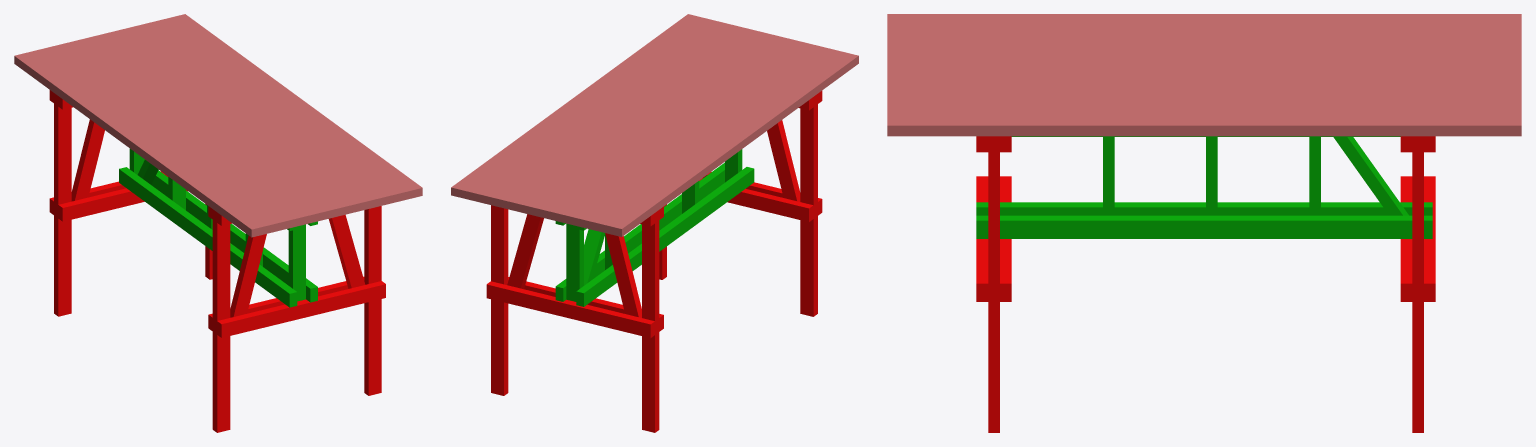
The model's file is result.glb.
3 views of the same model, side by side, from view 1: azimuth 30°, elevation 25°; view 2: azimuth 150°, elevation 25°; view 3: azimuth 270°, elevation 25° (orthographic). The views are drawn at different scales.
Parts seen in each view (by area): view 1: 0e2d6115-064c-49e9-8b46-75e6a443c788__Box, 5716ffc9-2244-4219-91a1-84971ffeeac2__sideV, fc0ff7b9-c589-4967-a167-0a1902f2a6fa__undefined, e9dbe41b-021e-4e5b-898d-485fd11d3400__undefined, 72f7e43e-d722-4439-b84b-b73fdcee22d6__undefined, 8e845e1e-fc01-4466-8a0b-829a7102497a__undefined, 05907608-a889-45c1-a5c1-0b994ade372c__undefined, 208a3bea-dc0c-40cc-aa88-c3824332a9ea__undefined, 220238b3-7981-4554-9ca0-bead12a8dde4__undefined, 39999f73-7ea3-4115-af88-85307f5ef5f1__undefined, 1d18f5ac-4958-489f-a69c-e43293ade638__undefined, 75c02e4d-f520-4bfe-b11a-c2f6e51ee647__undefined (+15 smaller); view 2: 0e2d6115-064c-49e9-8b46-75e6a443c788__Box, fc0ff7b9-c589-4967-a167-0a1902f2a6fa__undefined, 5716ffc9-2244-4219-91a1-84971ffeeac2__sideV, 39999f73-7ea3-4115-af88-85307f5ef5f1__undefined, 05907608-a889-45c1-a5c1-0b994ade372c__undefined, 1d18f5ac-4958-489f-a69c-e43293ade638__undefined, 220238b3-7981-4554-9ca0-bead12a8dde4__undefined, 8eeadd95-a23d-4f24-b320-4b582d40163c__undefined, abcacfcd-9628-4e4d-b824-7d19eeb62a82__undefined, 75c02e4d-f520-4bfe-b11a-c2f6e51ee647__undefined, cd08b841-8998-4378-a686-66e47fae4654__undefined, 8e845e1e-fc01-4466-8a0b-829a7102497a__undefined (+17 smaller); view 3: 220238b3-7981-4554-9ca0-bead12a8dde4__undefined, 3dd16536-4997-455d-8f23-9477ec98125d__strutH, 8e845e1e-fc01-4466-8a0b-829a7102497a__undefined, abcacfcd-9628-4e4d-b824-7d19eeb62a82__undefined, 72f7e43e-d722-4439-b84b-b73fdcee22d6__undefined, 0e2d6115-064c-49e9-8b46-75e6a443c788__Box, cd08b841-8998-4378-a686-66e47fae4654__undefined, 39999f73-7ea3-4115-af88-85307f5ef5f1__undefined, e9dbe41b-021e-4e5b-898d-485fd11d3400__undefined, 05907608-a889-45c1-a5c1-0b994ade372c__undefined, 208a3bea-dc0c-40cc-aa88-c3824332a9ea__undefined, 8eeadd95-a23d-4f24-b320-4b582d40163c__undefined (+13 smaller).
Boxes of the visible parts, x1=… form: 0e2d6115-064c-49e9-8b46-75e6a443c788__Box: x1=14, y1=52, x2=264, y2=237; 5716ffc9-2244-4219-91a1-84971ffeeac2__sideV: x1=212, y1=209, x2=230, y2=432; fc0ff7b9-c589-4967-a167-0a1902f2a6fa__undefined: x1=54, y1=93, x2=71, y2=316; e9dbe41b-021e-4e5b-898d-485fd11d3400__undefined: x1=67, y1=39, x2=317, y2=224; 72f7e43e-d722-4439-b84b-b73fdcee22d6__undefined: x1=146, y1=20, x2=396, y2=205; 8e845e1e-fc01-4466-8a0b-829a7102497a__undefined: x1=54, y1=43, x2=304, y2=227; 05907608-a889-45c1-a5c1-0b994ade372c__undefined: x1=80, y1=36, x2=330, y2=221; 208a3bea-dc0c-40cc-aa88-c3824332a9ea__undefined: x1=93, y1=33, x2=343, y2=217; 220238b3-7981-4554-9ca0-bead12a8dde4__undefined: x1=172, y1=14, x2=422, y2=198; 39999f73-7ea3-4115-af88-85307f5ef5f1__undefined: x1=41, y1=46, x2=291, y2=230; 1d18f5ac-4958-489f-a69c-e43293ade638__undefined: x1=133, y1=23, x2=383, y2=208; 75c02e4d-f520-4bfe-b11a-c2f6e51ee647__undefined: x1=159, y1=17, x2=409, y2=201; 0e2d6115-064c-49e9-8b46-75e6a443c788__Box: x1=608, y1=52, x2=858, y2=236; fc0ff7b9-c589-4967-a167-0a1902f2a6fa__undefined: x1=642, y1=210, x2=659, y2=432; 5716ffc9-2244-4219-91a1-84971ffeeac2__sideV: x1=800, y1=94, x2=817, y2=316; 39999f73-7ea3-4115-af88-85307f5ef5f1__undefined: x1=582, y1=46, x2=832, y2=230; 05907608-a889-45c1-a5c1-0b994ade372c__undefined: x1=543, y1=36, x2=792, y2=220; 1d18f5ac-4958-489f-a69c-e43293ade638__undefined: x1=490, y1=23, x2=740, y2=207; 220238b3-7981-4554-9ca0-bead12a8dde4__undefined: x1=451, y1=14, x2=700, y2=198; 8eeadd95-a23d-4f24-b320-4b582d40163c__undefined: x1=516, y1=30, x2=766, y2=214; abcacfcd-9628-4e4d-b824-7d19eeb62a82__undefined: x1=503, y1=27, x2=753, y2=211; 75c02e4d-f520-4bfe-b11a-c2f6e51ee647__undefined: x1=464, y1=17, x2=713, y2=201; cd08b841-8998-4378-a686-66e47fae4654__undefined: x1=595, y1=49, x2=845, y2=233; 8e845e1e-fc01-4466-8a0b-829a7102497a__undefined: x1=569, y1=43, x2=818, y2=227; 220238b3-7981-4554-9ca0-bead12a8dde4__undefined: x1=887, y1=117, x2=1521, y2=136; 3dd16536-4997-455d-8f23-9477ec98125d__strutH: x1=976, y1=215, x2=1432, y2=238; 8e845e1e-fc01-4466-8a0b-829a7102497a__undefined: x1=887, y1=39, x2=1521, y2=48; abcacfcd-9628-4e4d-b824-7d19eeb62a82__undefined: x1=887, y1=82, x2=1521, y2=91; 72f7e43e-d722-4439-b84b-b73fdcee22d6__undefined: x1=887, y1=99, x2=1521, y2=108; 0e2d6115-064c-49e9-8b46-75e6a443c788__Box: x1=887, y1=14, x2=1521, y2=22; cd08b841-8998-4378-a686-66e47fae4654__undefined: x1=887, y1=22, x2=1521, y2=30; 39999f73-7ea3-4115-af88-85307f5ef5f1__undefined: x1=887, y1=31, x2=1521, y2=39; e9dbe41b-021e-4e5b-898d-485fd11d3400__undefined: x1=887, y1=48, x2=1521, y2=56; 05907608-a889-45c1-a5c1-0b994ade372c__undefined: x1=887, y1=57, x2=1521, y2=65; 208a3bea-dc0c-40cc-aa88-c3824332a9ea__undefined: x1=887, y1=65, x2=1521, y2=73; 8eeadd95-a23d-4f24-b320-4b582d40163c__undefined: x1=887, y1=74, x2=1521, y2=82.
Size of the model in its own units: 832 by 1077 by 2000.
